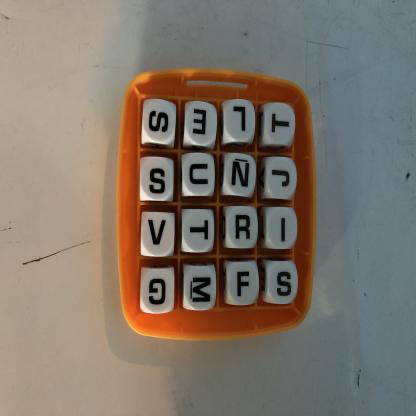e: (186, 103, 218, 144)
g: (141, 269, 174, 314)
i: (268, 208, 298, 249)
j: (267, 159, 296, 200)
l: (225, 101, 257, 142)
m: (184, 266, 216, 311)
n: (227, 155, 257, 195)
r: (226, 208, 258, 249)
s: (144, 100, 177, 143), (141, 159, 174, 202), (228, 263, 260, 306), (267, 262, 299, 305)
t: (183, 211, 215, 254), (265, 104, 296, 145)
u: (183, 154, 215, 197)
v: (141, 213, 175, 257)
